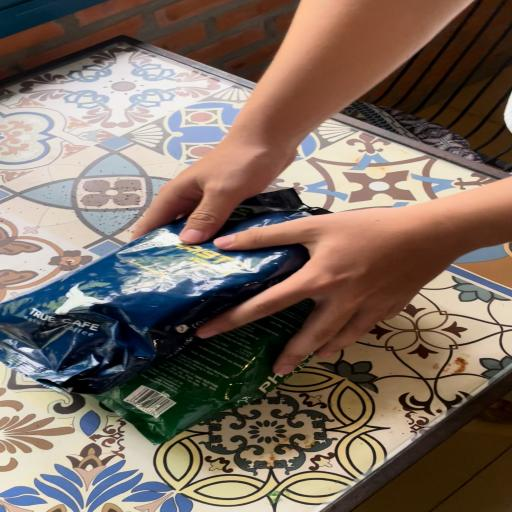cafe_hat: (0, 218, 308, 394), (221, 191, 312, 234)
cafe_xay: (99, 301, 312, 444)
